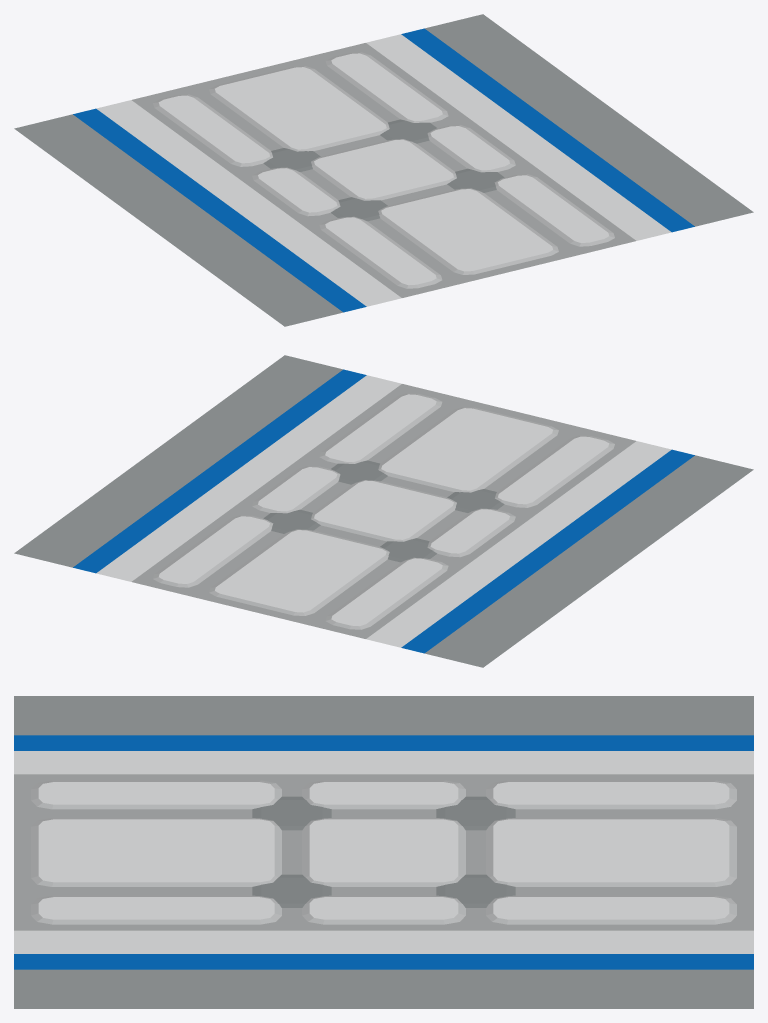
The model's file is Floor_type_A_013.001.fbx.
The picture shows the model from 3 angles, top to bottom: view 1: azimuth 30°, elevation 25°; view 2: azimuth 150°, elevation 25°; view 3: azimuth 270°, elevation 25°; orthographic projection. The views are drawn at different scales.
Parts seen in each view (by area): view 1: Floor_type_A_013.001; view 2: Floor_type_A_013.001; view 3: Floor_type_A_013.001.
Part boxes in pixels (left/top/right/bottom): Floor_type_A_013.001: left=14, top=14, right=753, bottom=326; Floor_type_A_013.001: left=14, top=355, right=753, bottom=667; Floor_type_A_013.001: left=14, top=696, right=753, bottom=1008.
Size of the model in its own units: 400 by 400 by 1.34.
